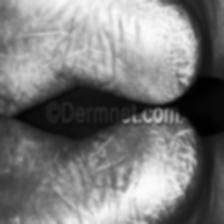Non-Cancerous Skin Condition: (127, 126, 200, 224), (140, 1, 206, 92)
